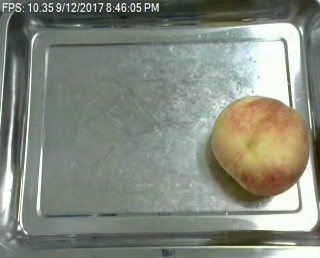Peach: (209, 94, 309, 196)
